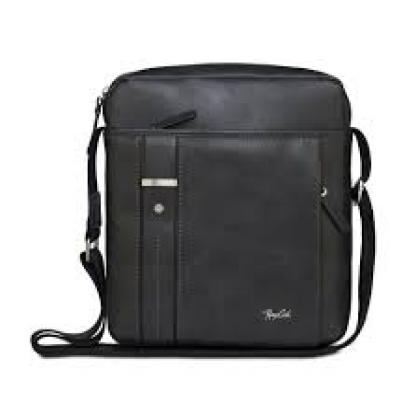morral: (24, 50, 392, 368)
